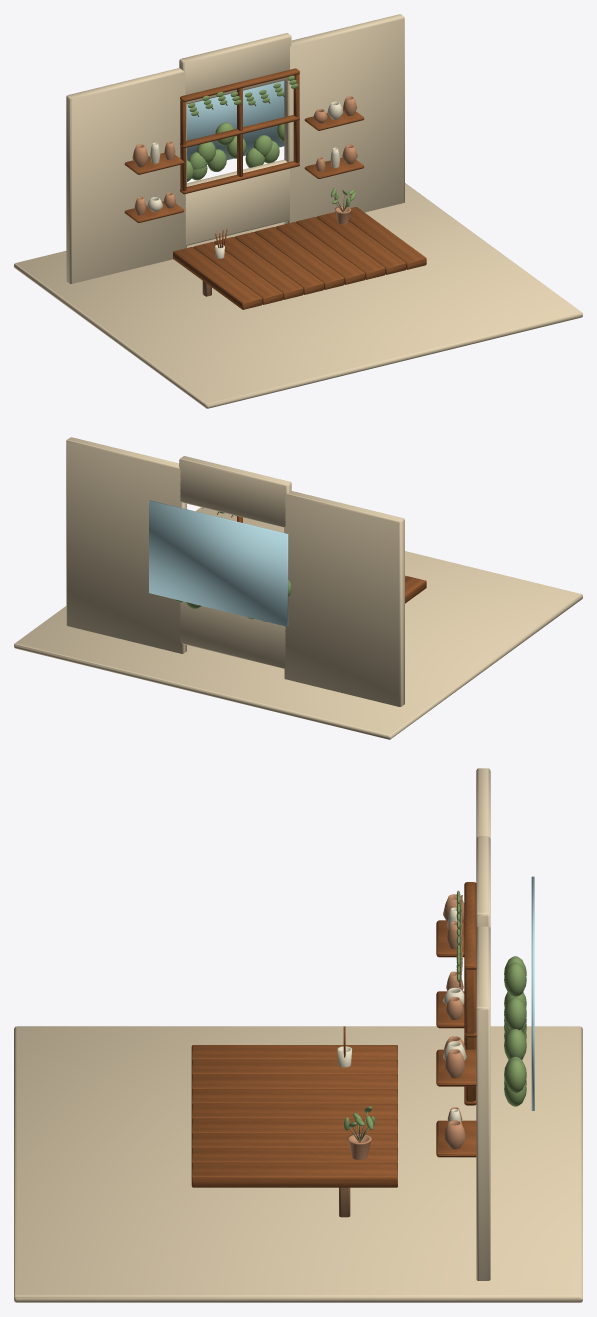
Rendered from workshop.glb.
The picture shows the model from 3 angles, top to bottom: view 1: azimuth 30°, elevation 25°; view 2: azimuth 150°, elevation 25°; view 3: azimuth 270°, elevation 25°; orthographic projection. The views are drawn at different scales.
Visible parts, largest first — view 1: Floor, Wall left, Wall right, Wall below window, Wall above window, Window distant sky, Table plank, Table plank.003, Table plank.005, Table plank.004, Table plank.006, Table plank.002 (+12 smaller); view 2: Floor, Wall left, Wall right, Window distant sky, Wall above window, Wall below window, Table plank; view 3: Floor, Table plank.008, Wall right, Table plank.004, Table plank.001, Table plank.002, Table plank.003, Table plank.005, Table plank, Table plank.007, Table plank.006, Wall above window (+6 smaller).
Part boxes in pixels (bbox=[...]): Floor: bbox=[14, 183, 582, 408]; Wall left: bbox=[66, 68, 186, 283]; Wall right: bbox=[284, 14, 404, 224]; Wall below window: bbox=[185, 159, 289, 245]; Wall above window: bbox=[179, 33, 291, 104]; Window distant sky: bbox=[187, 81, 284, 164]; Table plank: bbox=[173, 247, 262, 309]; Table plank.003: bbox=[234, 232, 323, 294]; Table plank.005: bbox=[275, 222, 364, 284]; Table plank.004: bbox=[255, 227, 344, 289]; Table plank.006: bbox=[296, 217, 385, 279]; Table plank.002: bbox=[214, 237, 303, 299]; Floor: bbox=[14, 507, 582, 739]; Wall left: bbox=[284, 491, 404, 706]; Wall right: bbox=[66, 437, 186, 653]; Window distant sky: bbox=[149, 500, 288, 626]; Wall above window: bbox=[179, 456, 291, 527]; Wall below window: bbox=[180, 601, 285, 668]; Table plank: bbox=[405, 576, 426, 603]; Floor: bbox=[14, 1026, 582, 1302]; Table plank.008: bbox=[191, 1162, 397, 1187]; Wall right: bbox=[476, 926, 490, 1280]; Table plank.004: bbox=[191, 1103, 397, 1119]; Table plank.001: bbox=[191, 1059, 397, 1075]; Table plank.002: bbox=[191, 1074, 397, 1090]; Table plank.003: bbox=[191, 1089, 397, 1104]; Table plank.005: bbox=[191, 1118, 397, 1134]; Table plank: bbox=[191, 1045, 397, 1060]; Table plank.007: bbox=[191, 1148, 397, 1163]; Table plank.006: bbox=[191, 1133, 397, 1148]; Wall above window: bbox=[476, 836, 490, 927].
Size of the model in its own units: 9 by 4.56 by 8.
Materials: 8 (1 with a texture image).
